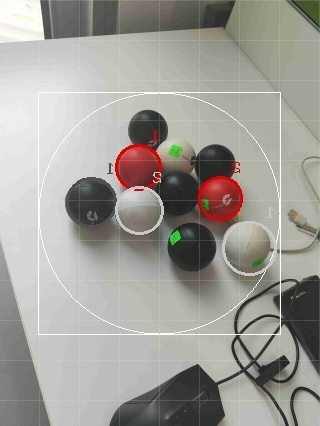Pelota blanca: (223, 220, 278, 278), (63, 174, 119, 227), (114, 185, 167, 238), (157, 137, 199, 174), (290, 385, 320, 425)
Pelota negra: (109, 363, 225, 425), (63, 174, 119, 227), (167, 222, 217, 272), (159, 169, 201, 216), (197, 142, 241, 182), (127, 108, 169, 147)
Pelota roja: (114, 142, 164, 190), (197, 174, 244, 222)
